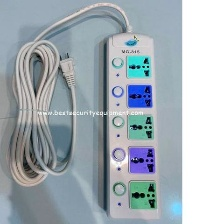three_eye_plug: (98, 27, 163, 222)
